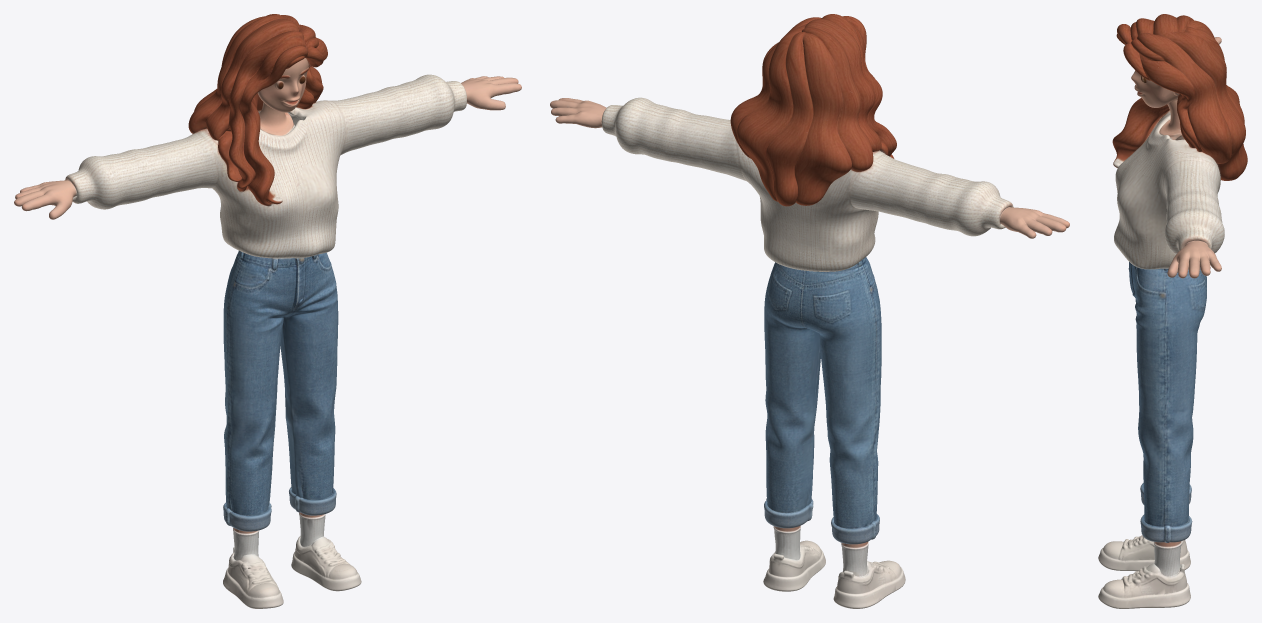
File: character-source.glb
The picture shows the model from 3 angles, left to right: view 1: azimuth 30°, elevation 25°; view 2: azimuth 150°, elevation 25°; view 3: azimuth 270°, elevation 25°; orthographic projection. The views are drawn at different scales.
Parts seen in each view (by area): view 1: Mesh_0.001; view 2: Mesh_0.001; view 3: Mesh_0.001.
Boxes of the visible parts, x1,y1,x2,y2 form: Mesh_0.001: [14, 14, 521, 608]; Mesh_0.001: [550, 14, 1069, 608]; Mesh_0.001: [1098, 14, 1247, 608].
Size of the model in its own units: 1.56 by 1.65 by 0.3963.
1 material, 1 textured.
